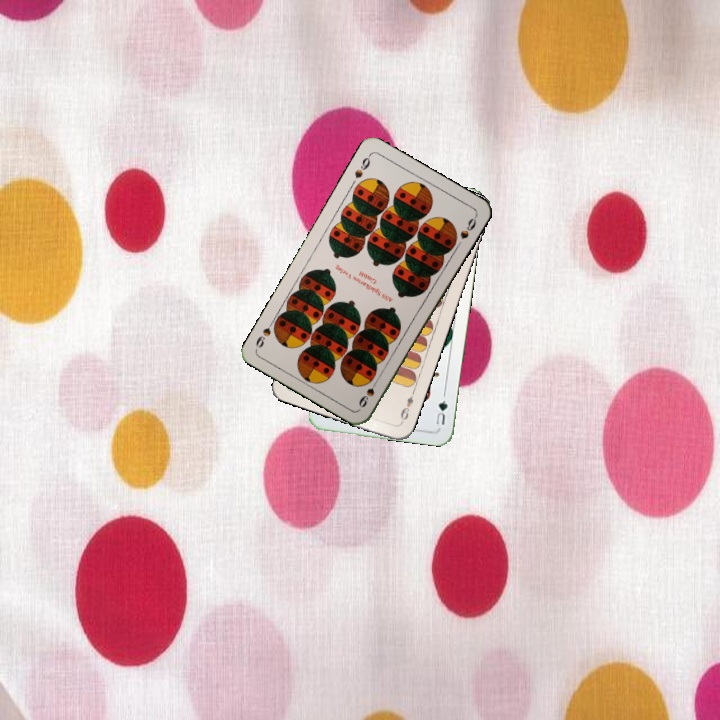E9: (396, 387, 417, 426)
GU: (432, 390, 450, 427)
S9: (354, 373, 382, 410), (350, 150, 373, 181)
